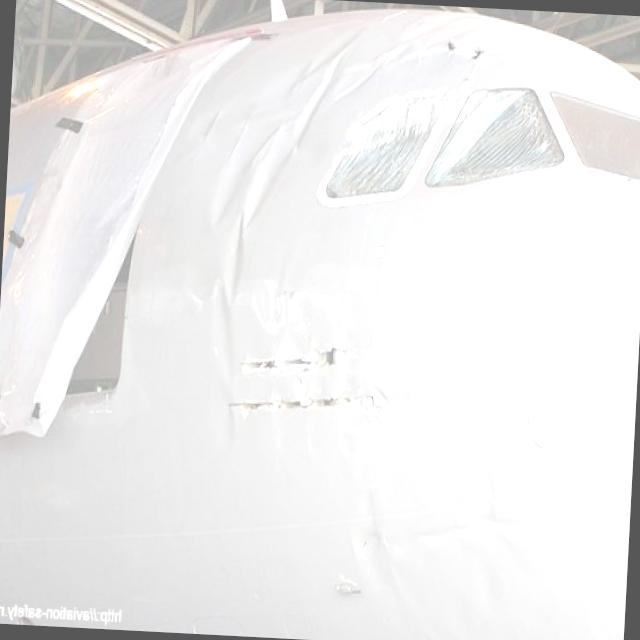crack: (217, 331, 397, 427)
dent: (171, 0, 515, 477)
